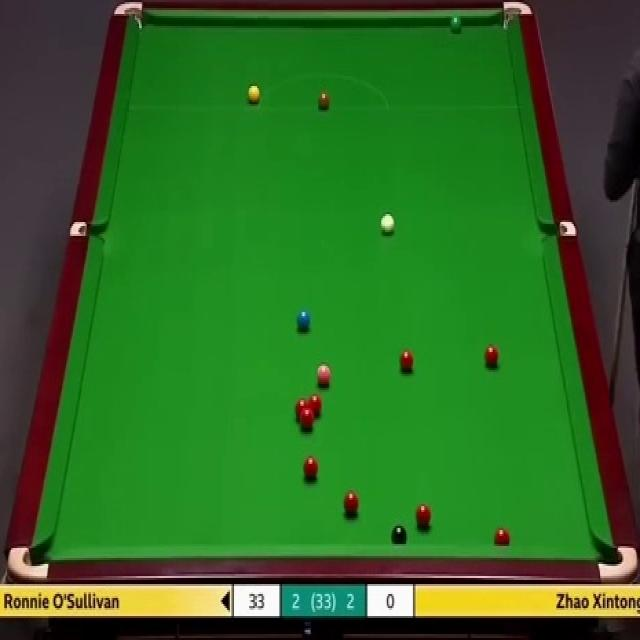black-ball: (391, 524, 408, 544)
blue-ball: (296, 308, 311, 334)
brown-ball: (317, 88, 331, 112)
green-ball: (450, 13, 462, 33)
pink-ball: (315, 364, 331, 388)
red-ball: (302, 454, 319, 482), (414, 503, 432, 528), (342, 491, 360, 515), (400, 348, 415, 372), (485, 344, 499, 368), (493, 526, 511, 544), (300, 406, 314, 428), (308, 394, 322, 413), (296, 398, 308, 414)
white-ball: (378, 212, 396, 238)
yellow-ball: (247, 81, 260, 105)
